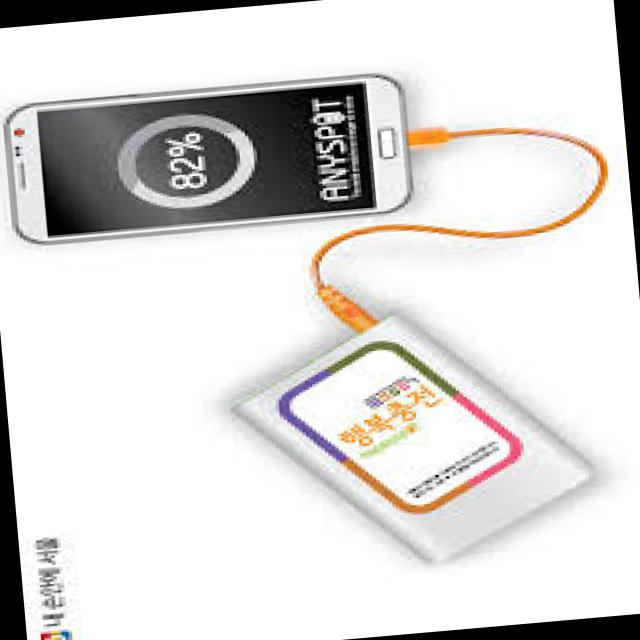power_bank: (219, 290, 606, 586)
